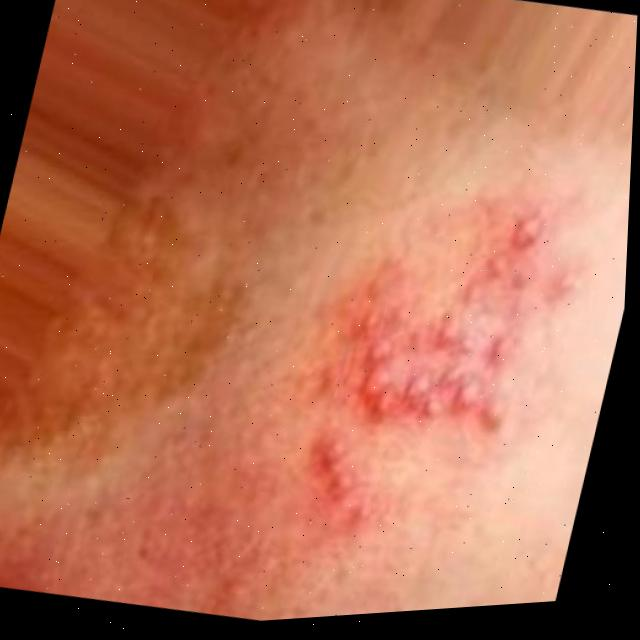Shingles: (300, 184, 575, 537)
